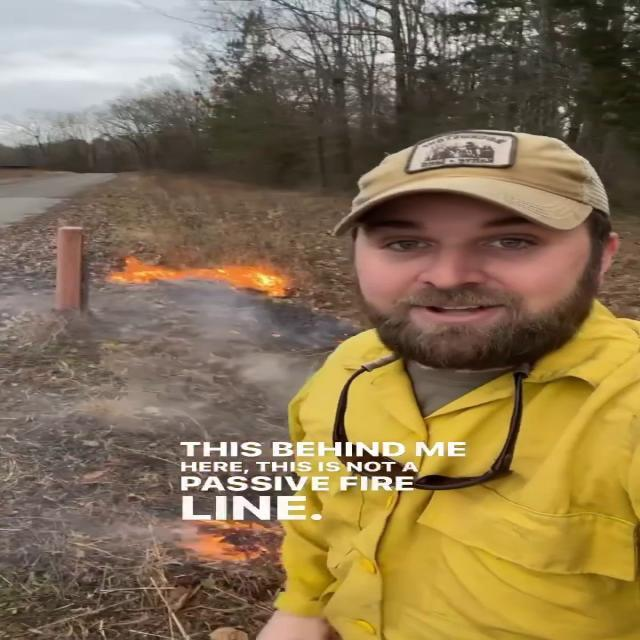Fire: (109, 250, 298, 299)
